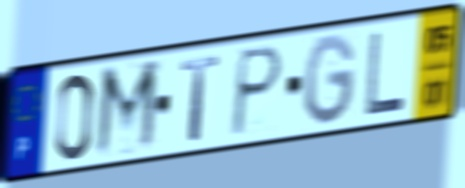0: (53, 71, 96, 163)
G: (303, 31, 359, 130)
L: (364, 30, 408, 119)
M: (91, 56, 162, 163)
P: (227, 43, 286, 141)
T: (179, 51, 222, 145)
